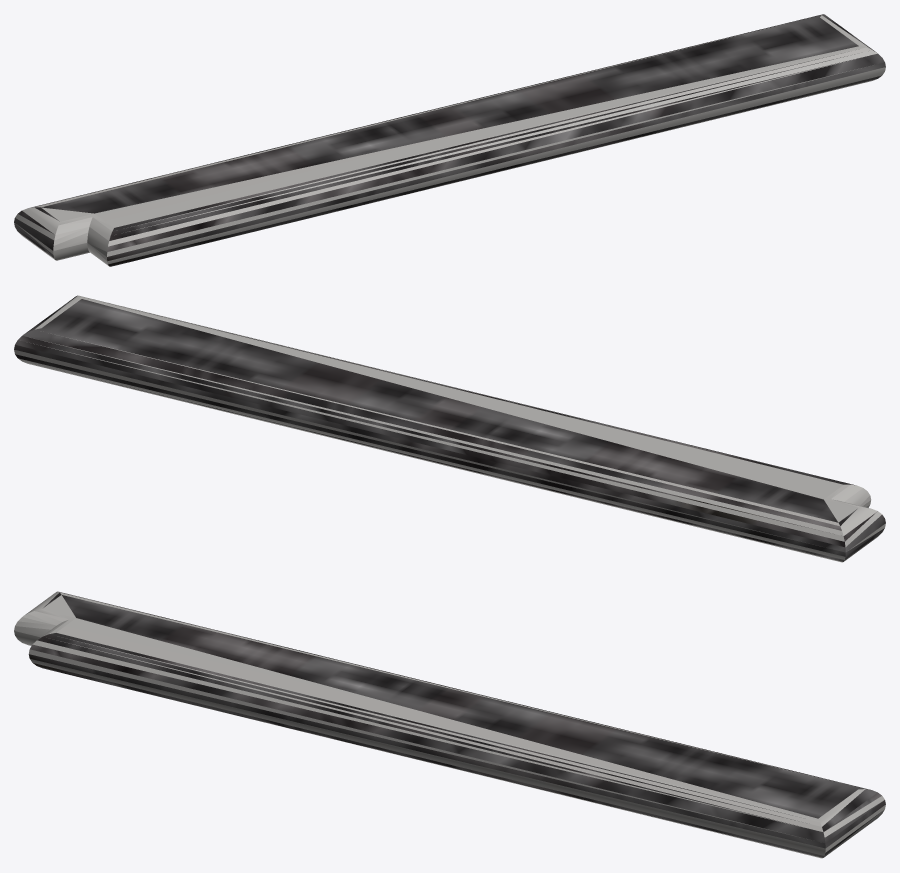
File: right_arm.obj
3 views of the same model, one above another, from view 1: azimuth 30°, elevation 25°; view 2: azimuth 150°, elevation 25°; view 3: azimuth 330°, elevation 25° (orthographic). The views are drawn at different scales.
Parts seen in each view (by area): view 1: right_arm_mesh1_mesh1-geometry.004; view 2: right_arm_mesh1_mesh1-geometry.004; view 3: right_arm_mesh1_mesh1-geometry.004.
Part boxes in pixels (left/top/right/bottom): right_arm_mesh1_mesh1-geometry.004: left=14, top=14, right=885, bottom=266; right_arm_mesh1_mesh1-geometry.004: left=14, top=295, right=885, bottom=562; right_arm_mesh1_mesh1-geometry.004: left=14, top=591, right=885, bottom=858.
Bounding box in the file's own units: 0.361 × 0.0151 × 0.0454.
